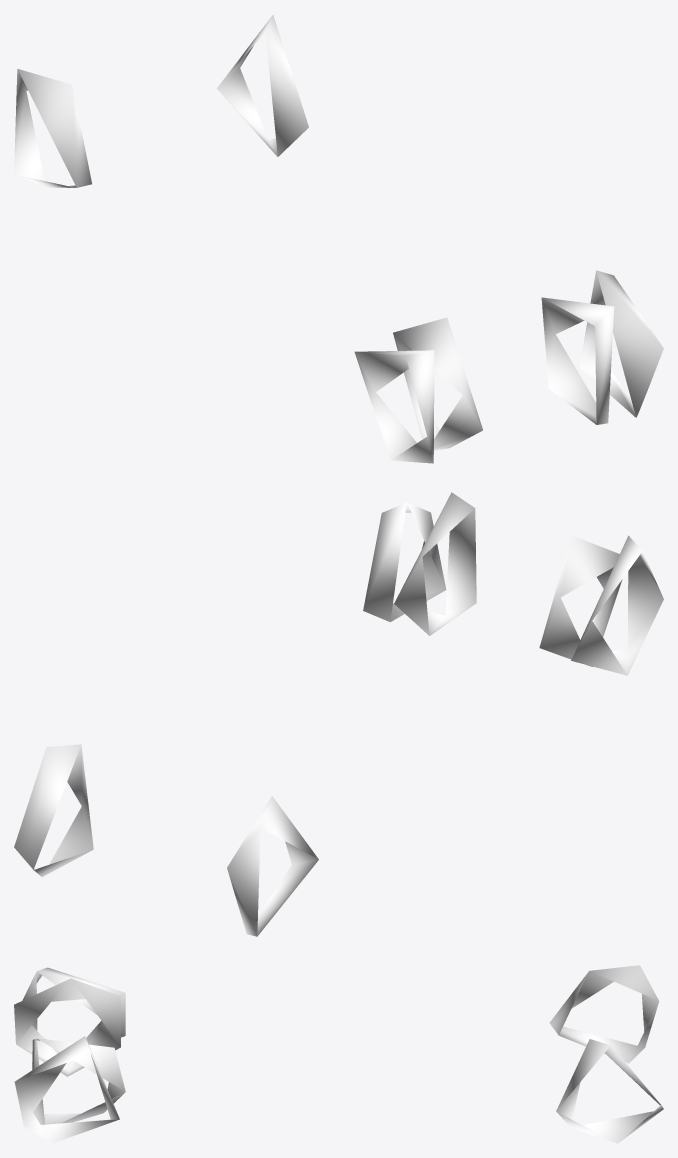
3 renders of one model, top to bottom at view 1: azimuth 30°, elevation 25°; view 2: azimuth 150°, elevation 25°; view 3: azimuth 270°, elevation 25°, orthographic. The views are drawn at different scales.
Bounding box in the file's own units: 2.21 × 1.17 × 6.88.
Materials: 1 (1 with a texture image).
